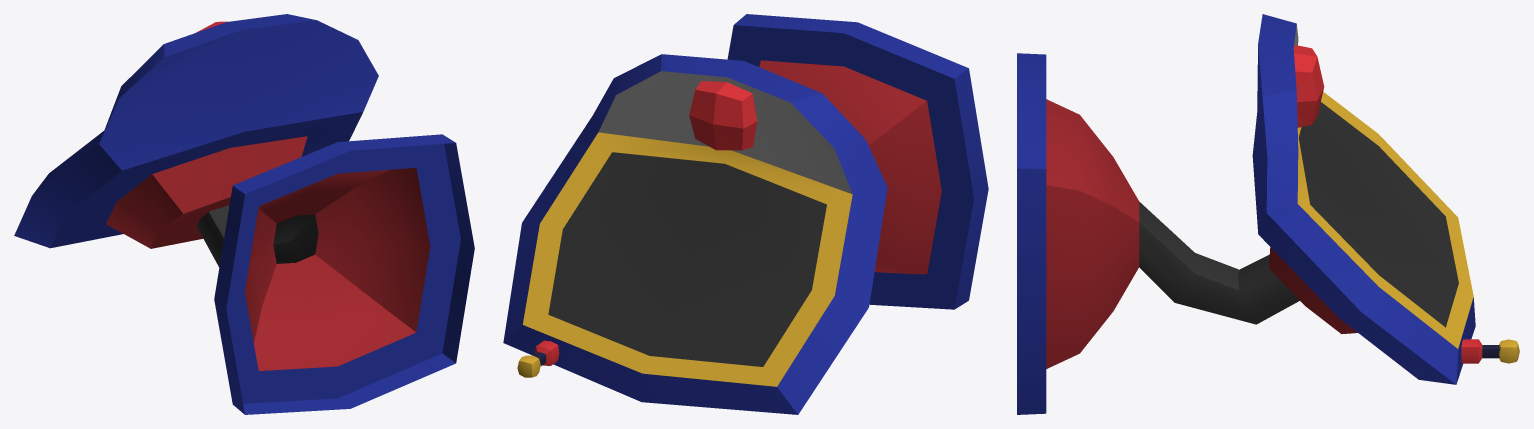
File: Machine 01 Controller.FBX
3 views of the same model, side by side, from view 1: azimuth 30°, elevation 25°; view 2: azimuth 150°, elevation 25°; view 3: azimuth 270°, elevation 25° (orthographic). The views are drawn at different scales.
Parts seen in each view (by area): view 1: Machine 01 Controller; view 2: Machine 01 Controller; view 3: Machine 01 Controller.
Boxes of the visible parts, bbox=[...] form: Machine 01 Controller: bbox=[14, 14, 474, 414]; Machine 01 Controller: bbox=[503, 14, 988, 414]; Machine 01 Controller: bbox=[1017, 14, 1519, 414].
Size of the model in its own units: 94.63 by 82.43 by 112.
1 material, 1 textured.
